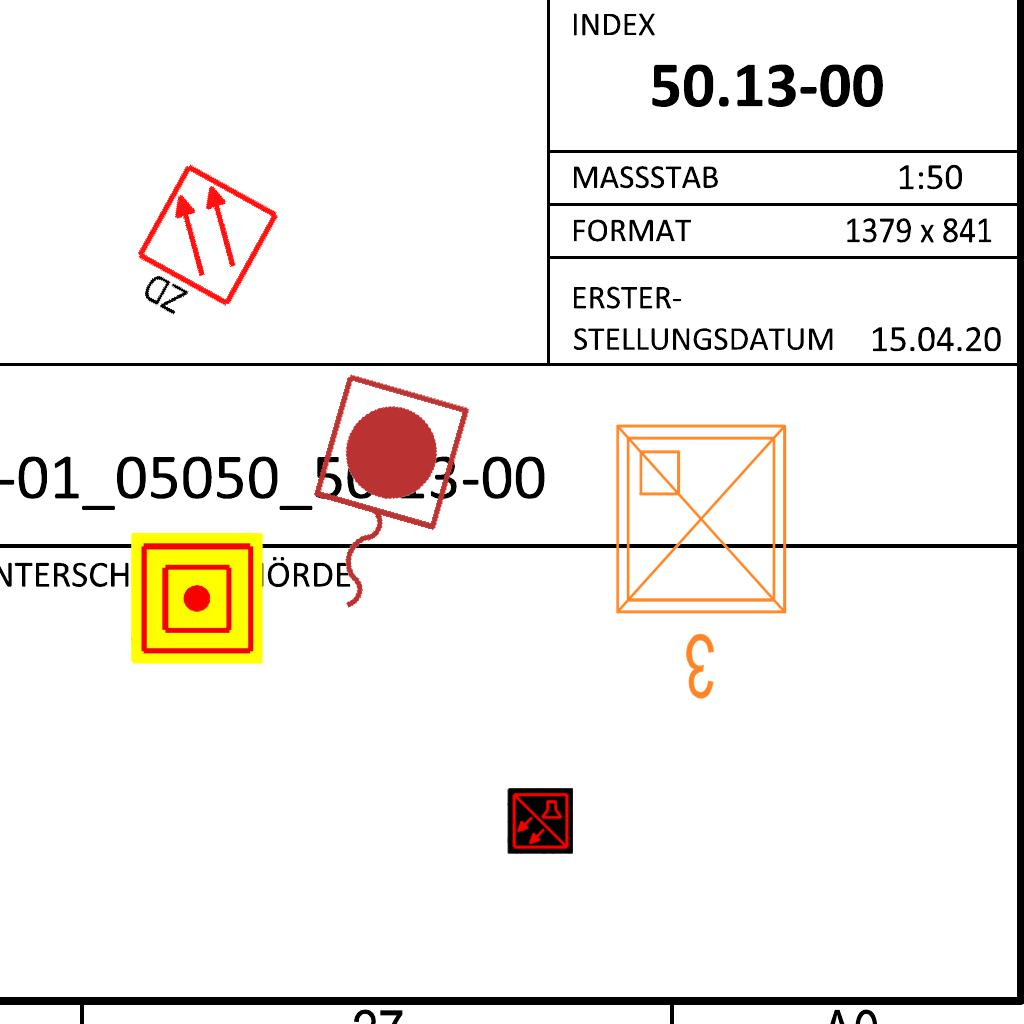Einbaudownlights_LED_Konferenzraeume: (601, 410, 809, 710)
NAM-Nichtautomatischer_Melder: (131, 532, 263, 664)
OKW_Multisensormelder_(Kombination_optischer_Rauch-Kahlenmonoxid_Waerme-Melder): (507, 788, 573, 854)
ZD_Melder_in_Zwischendecke_mit_Revisionsoeffnung_mind_40_x_40_cm: (114, 159, 286, 346)
Zugtaster: (273, 362, 479, 638)
